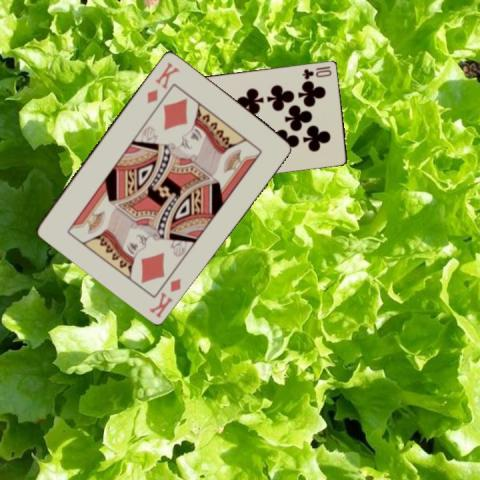10c: (300, 63, 334, 80)
Kd: (143, 59, 181, 104), (145, 274, 183, 318)
